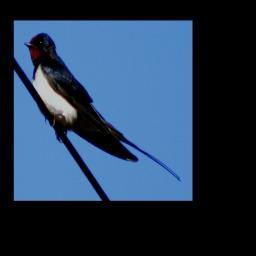Swallow: (23, 32, 183, 183)
